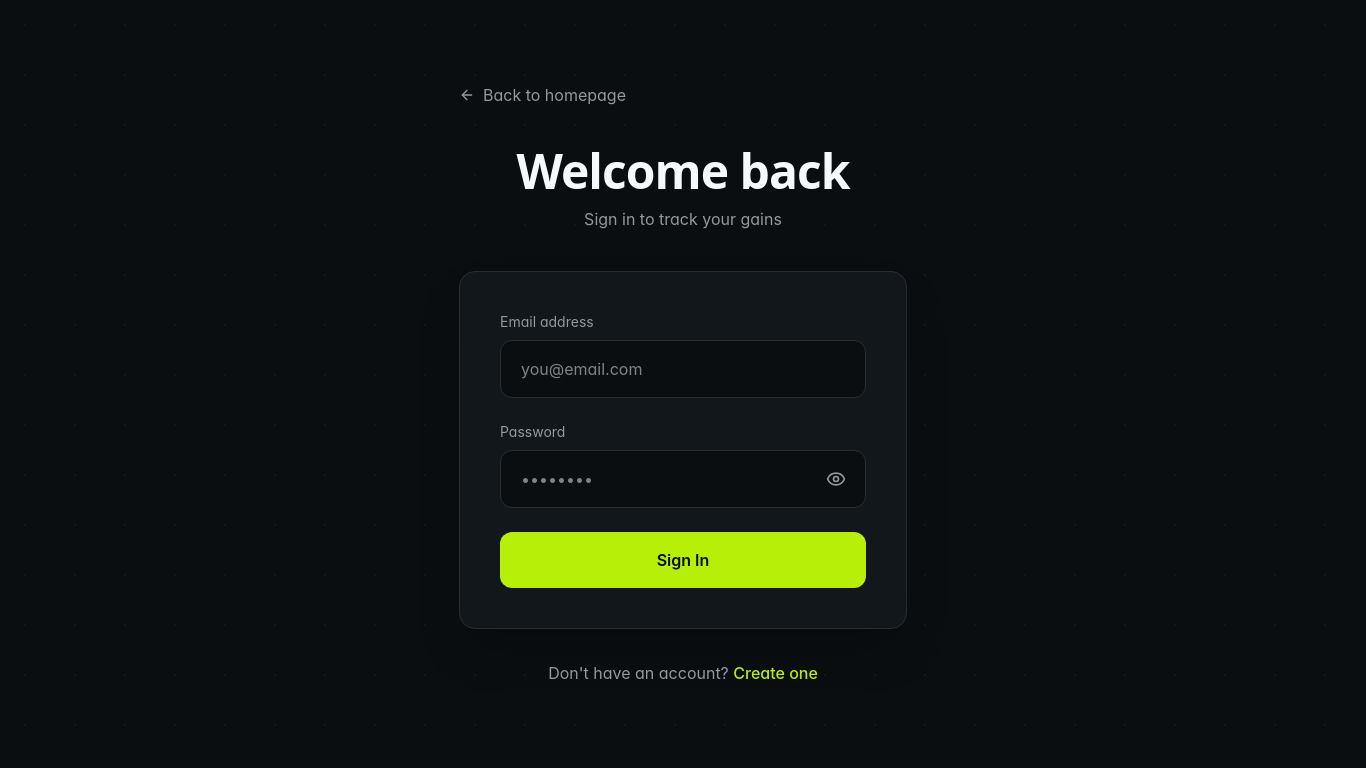
Test: Login Page › handles login error
Type "wrong@mail.com" into the field with placeholder "you@email.com" at (683, 369), box [500,340,866,398]
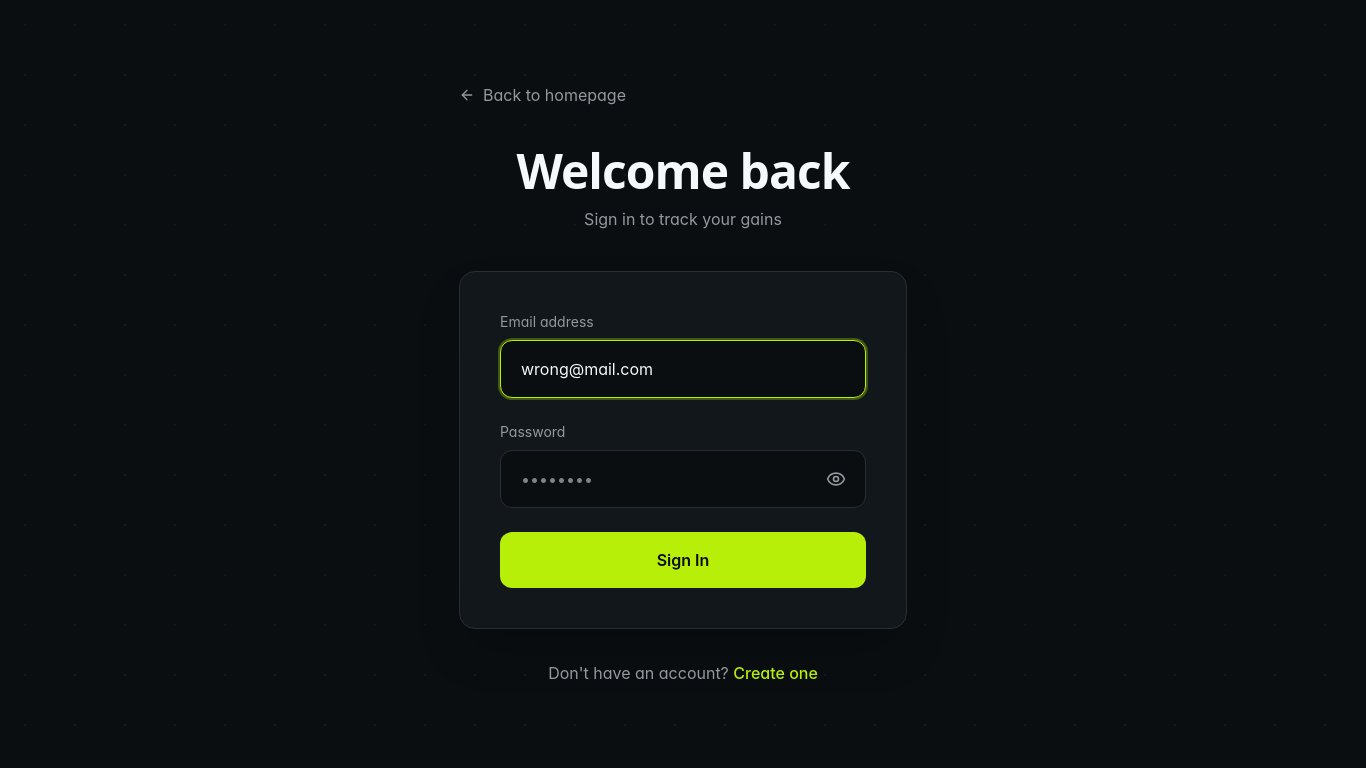
Type "wrongpass" into the password field with placeholder "••••••••" at (683, 479), box [500,450,866,508]
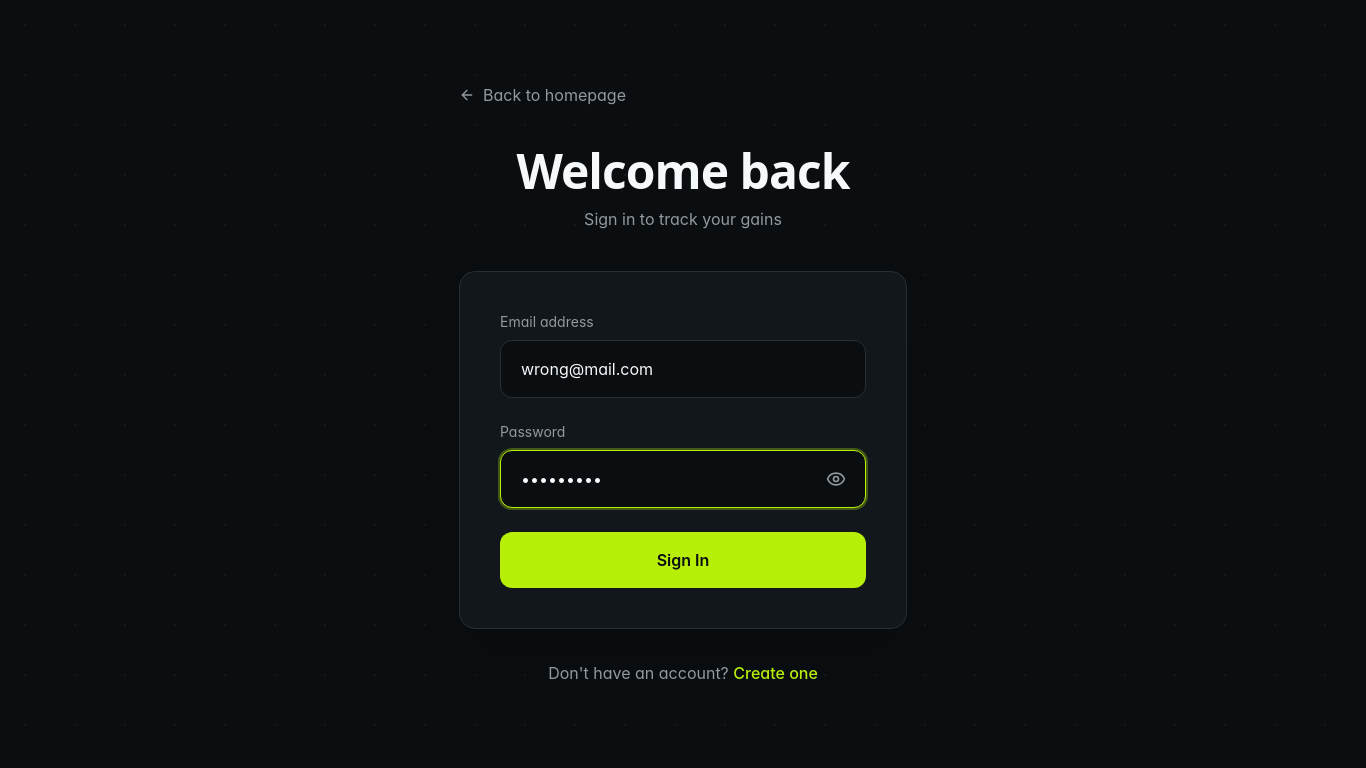
Click the button "Sign In" at (683, 560), box [500,532,866,588]
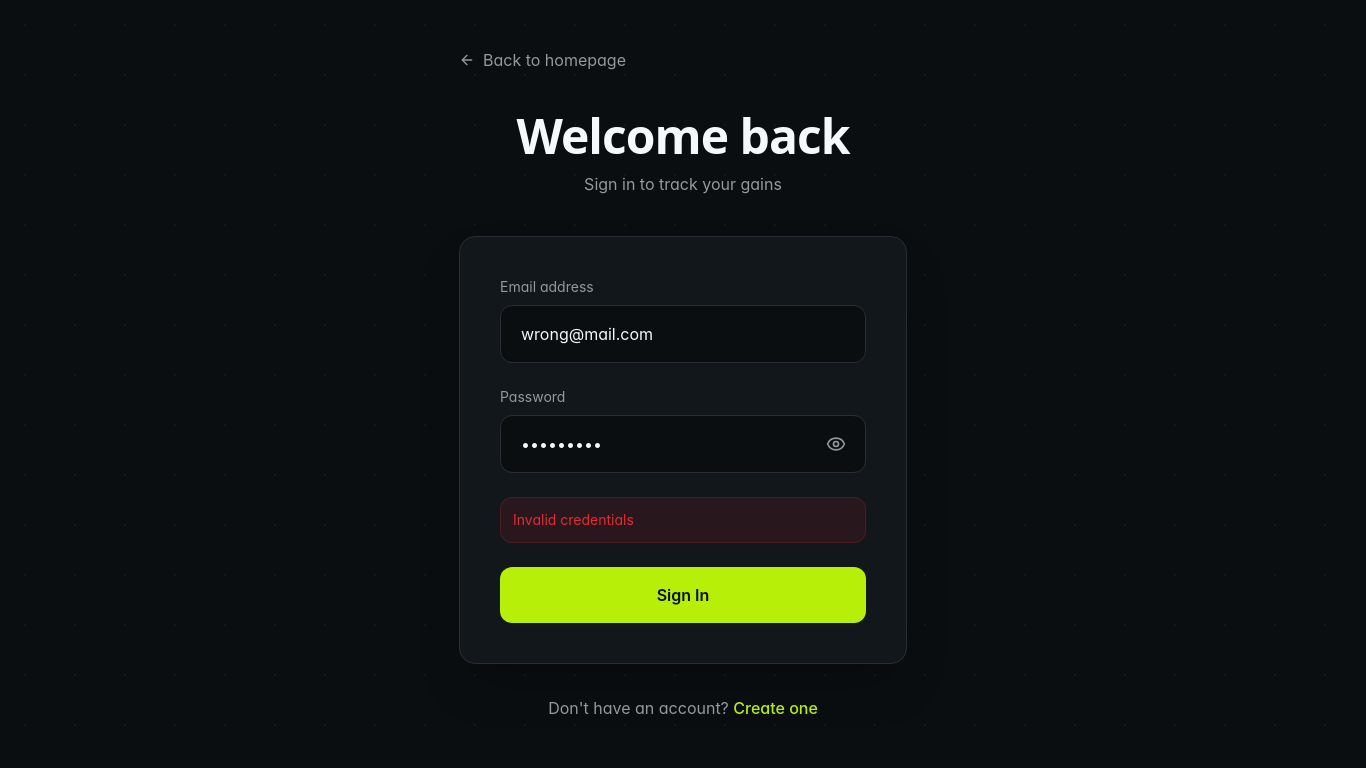
Expected: the text "Invalid credentials" is shown, [500,497,866,543]
